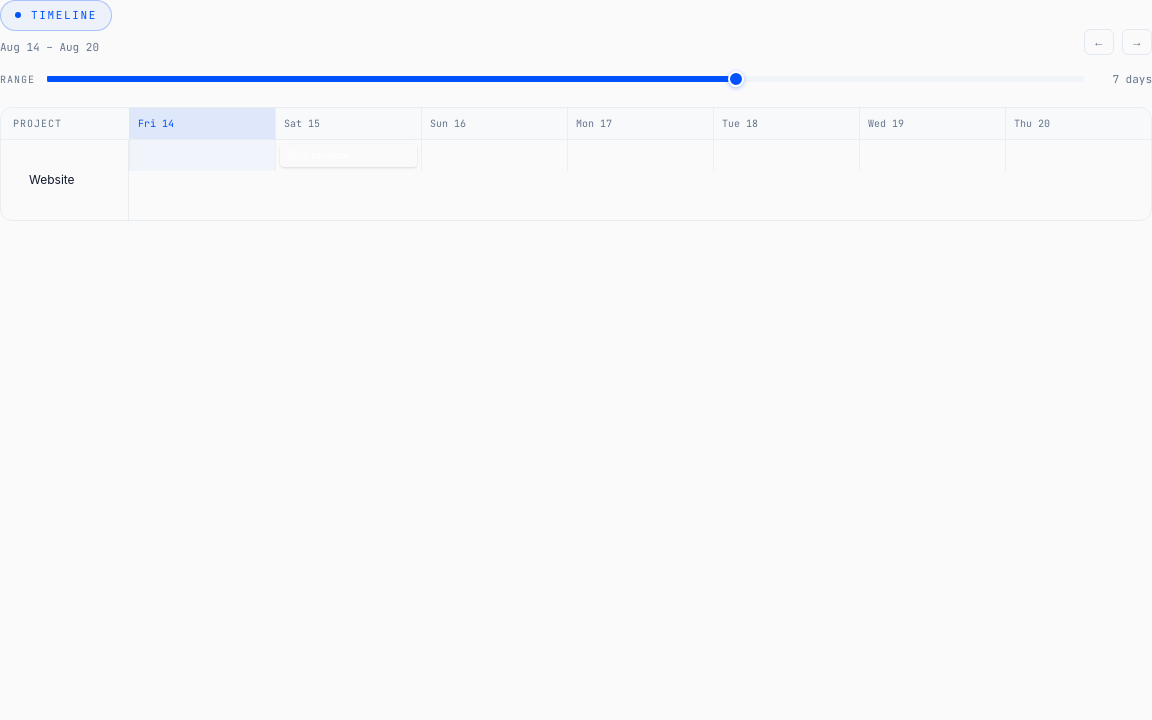
Test case: Today dashboard timeline — day-scale drag › a plain click (no movement) still opens the task panel and sends no patch
This screenshot has width=1152, height=720.
Expected: the button "Ship timeline" is shown, [280, 144, 417, 167]
Set the slider named "Timeline range" to "3": (566, 79) [47, 67, 1084, 91]
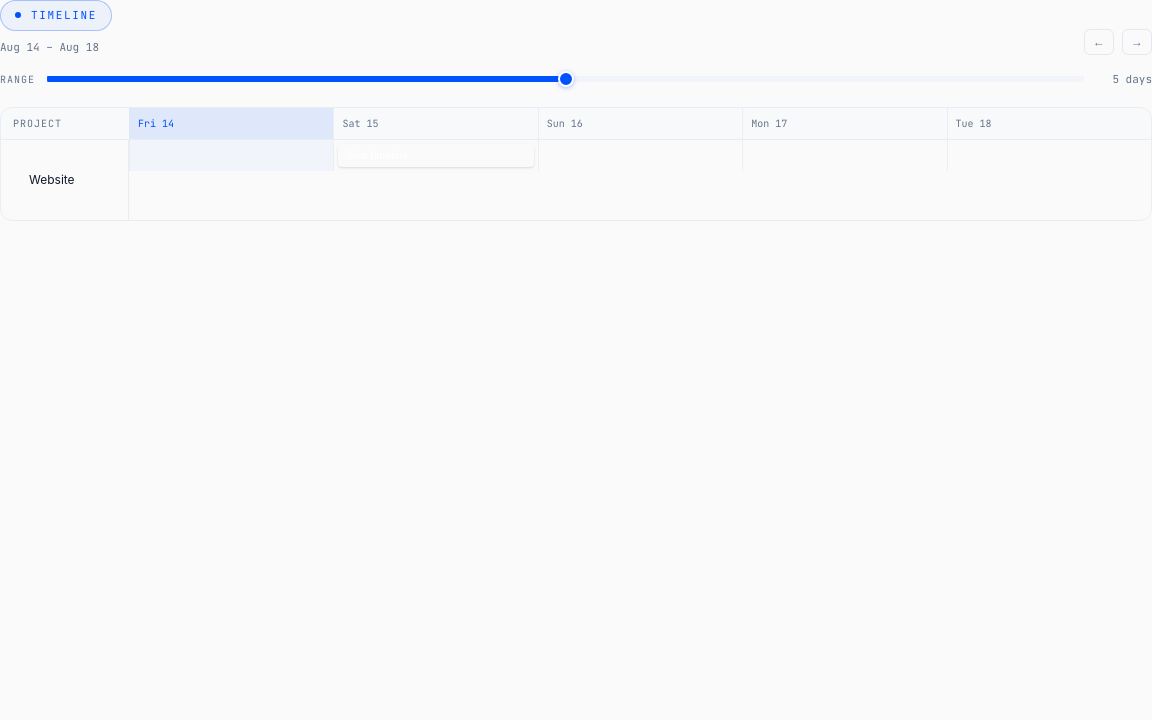
Click the button "Ship timeline": (436, 156) [338, 144, 534, 167]
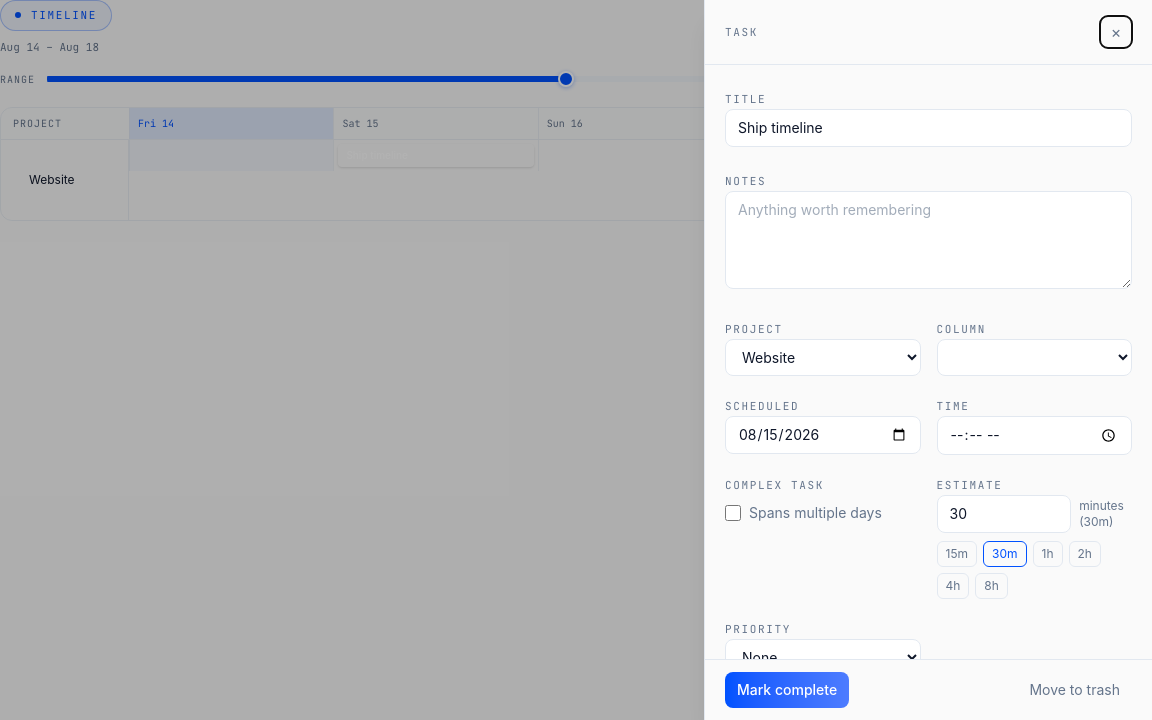
Result: the dialog "Task" is shown at [704, 0, 1151, 719]
